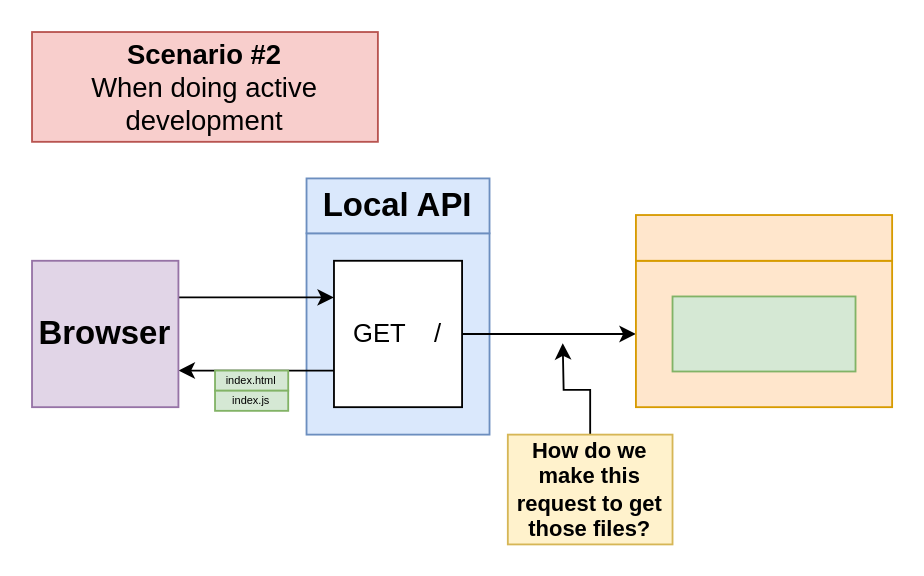
Image size: 924x576. Some labels were removed from this diagram. The shapes that lost their labels are listed below. From the top down, each one's centre as x and y in pixels, then its label:
the point at 763,237: Create React App
the point at 763,333: Dev Server producing HTML and JS files
